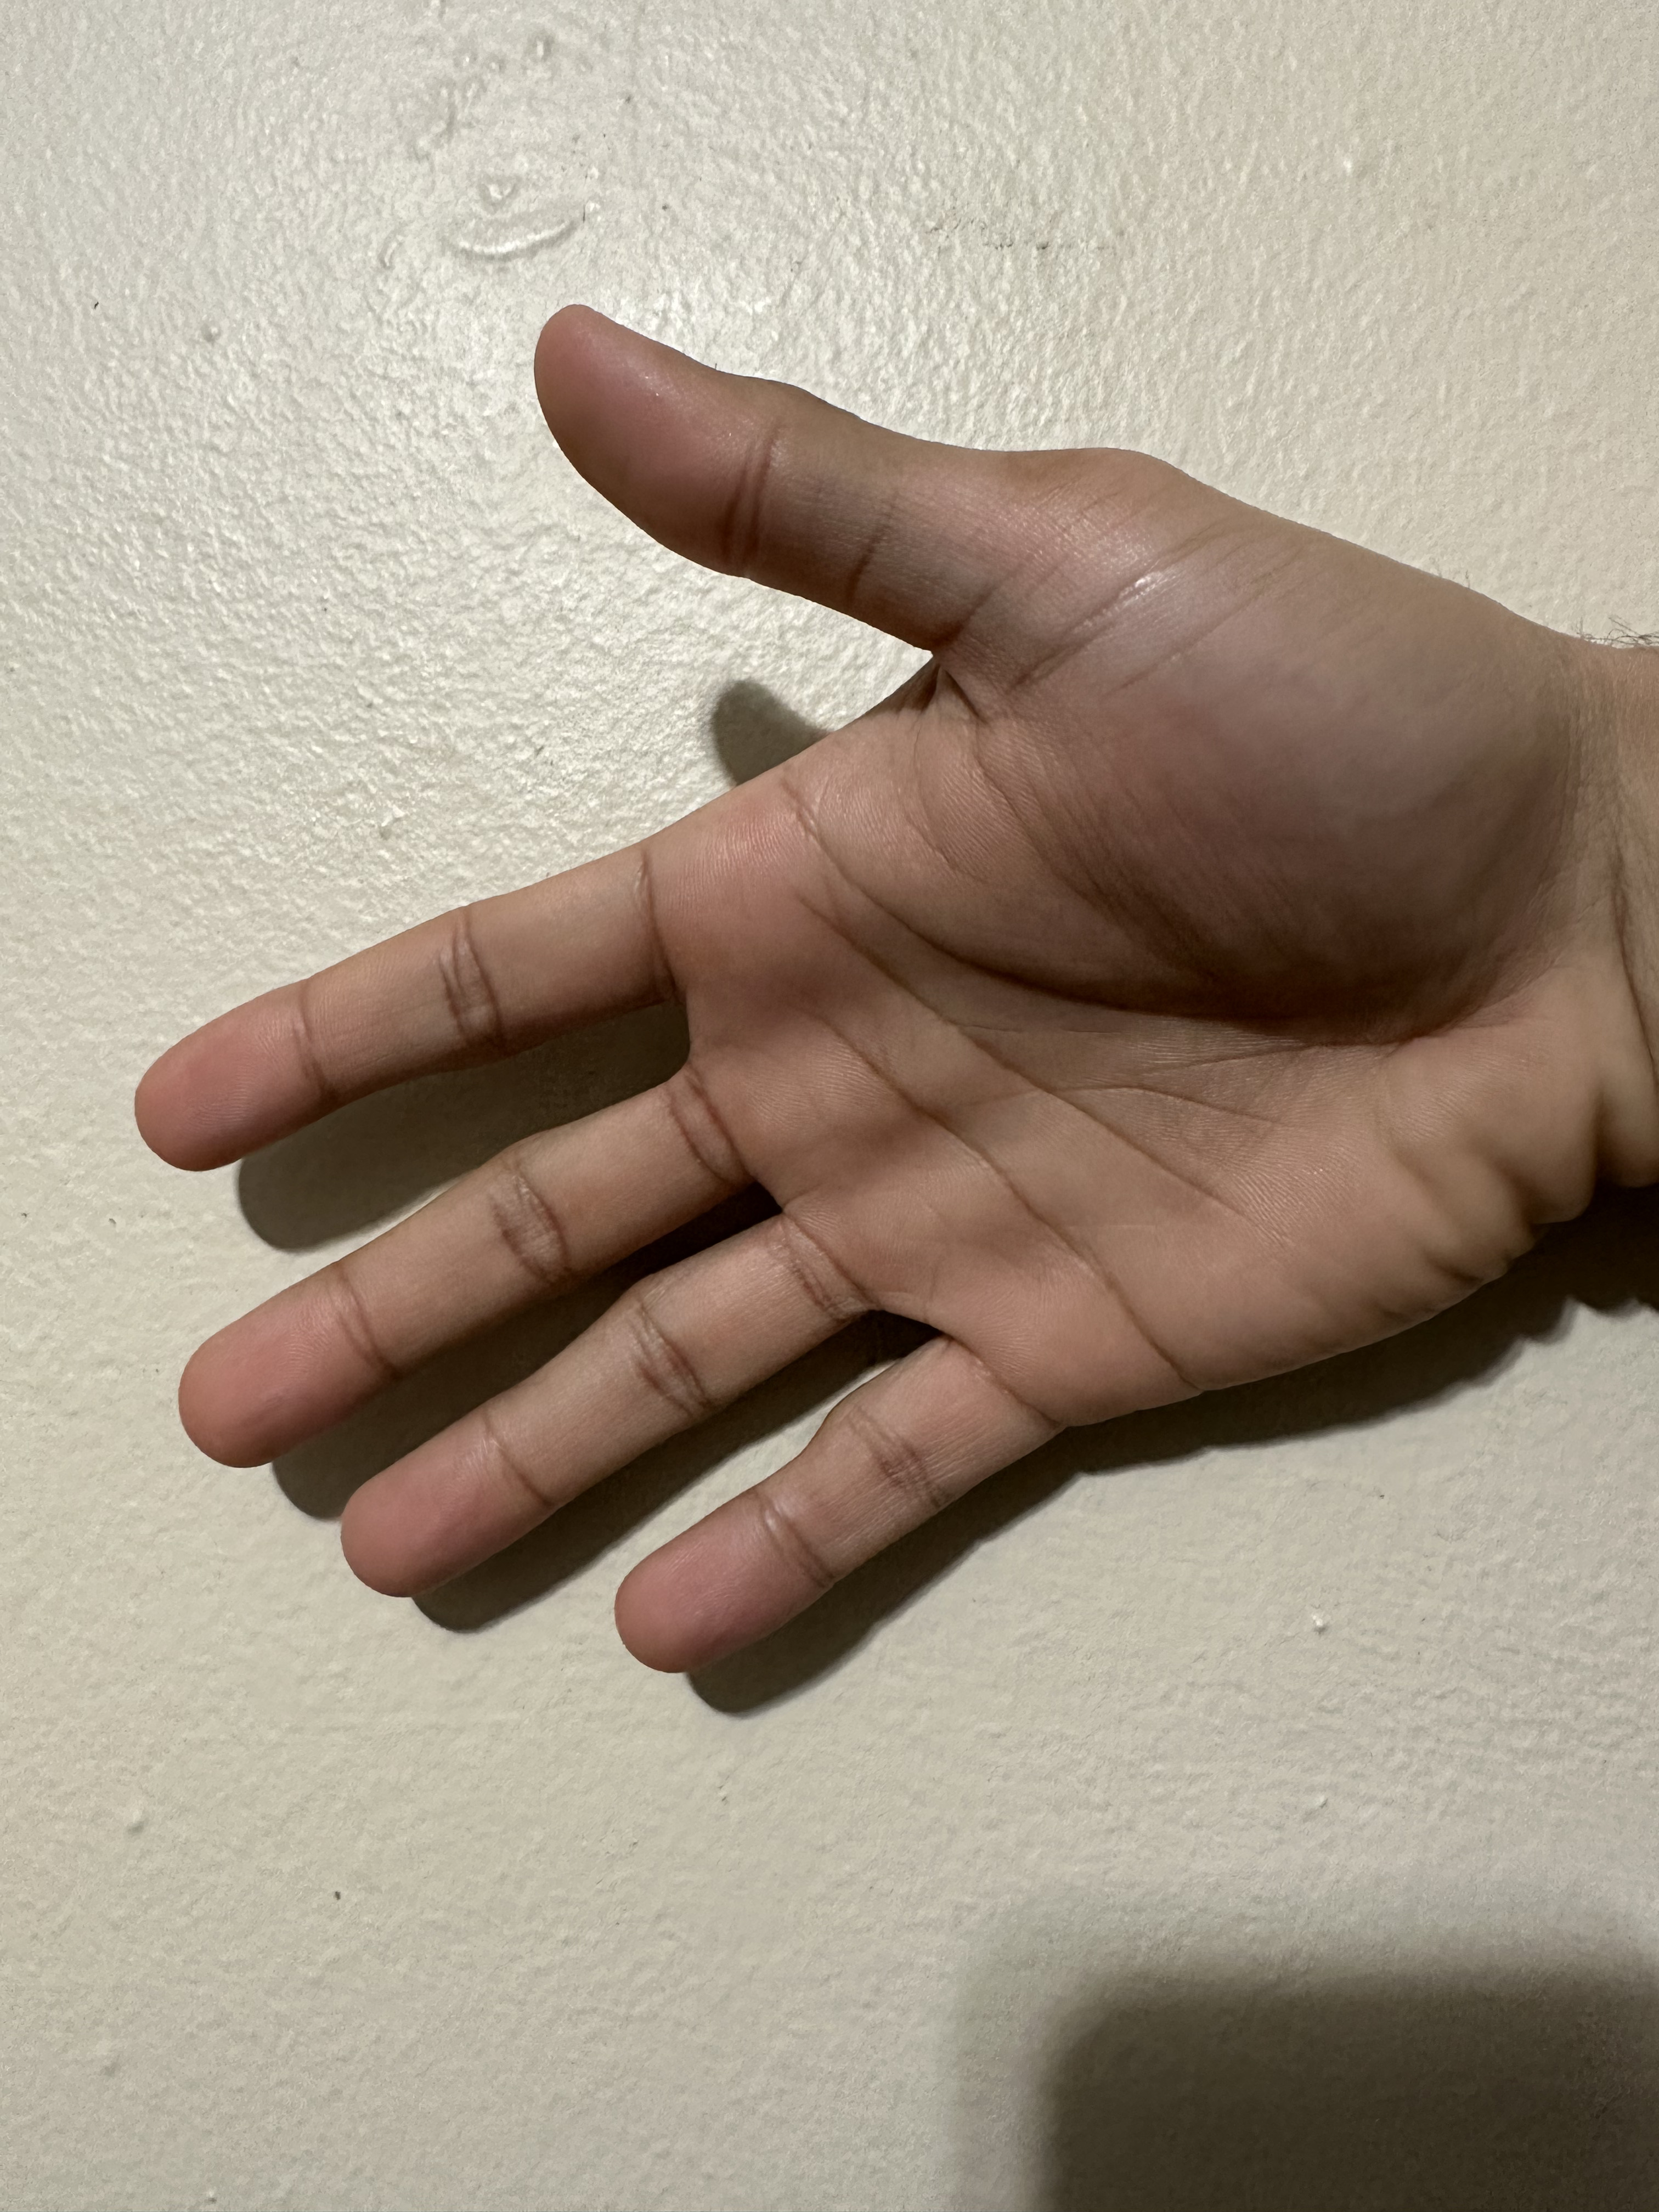finger: (495, 275, 788, 547), (103, 1273, 357, 1487), (587, 1496, 835, 1716), (295, 1425, 556, 1630), (98, 986, 350, 1183)
